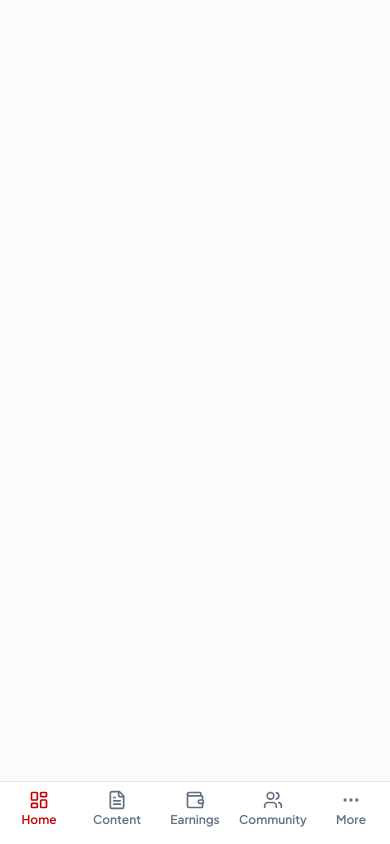
Scenario: DashboardMobileNav › uses the typed config for dashboard tabs and opens a grouped More sheet
Expected: the navigation bar named "Creator navigation" is shown, [0,781,389,843]
Click the button "More": (351,809) [312,782,389,836]
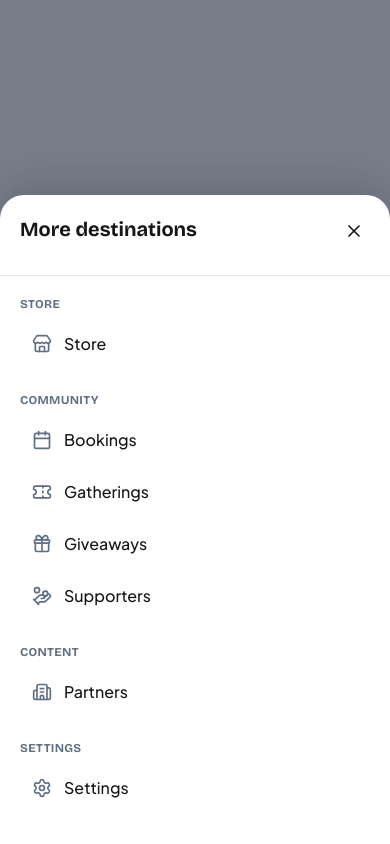
Result: the heading "Community" is shown at [20,393,99,407]
